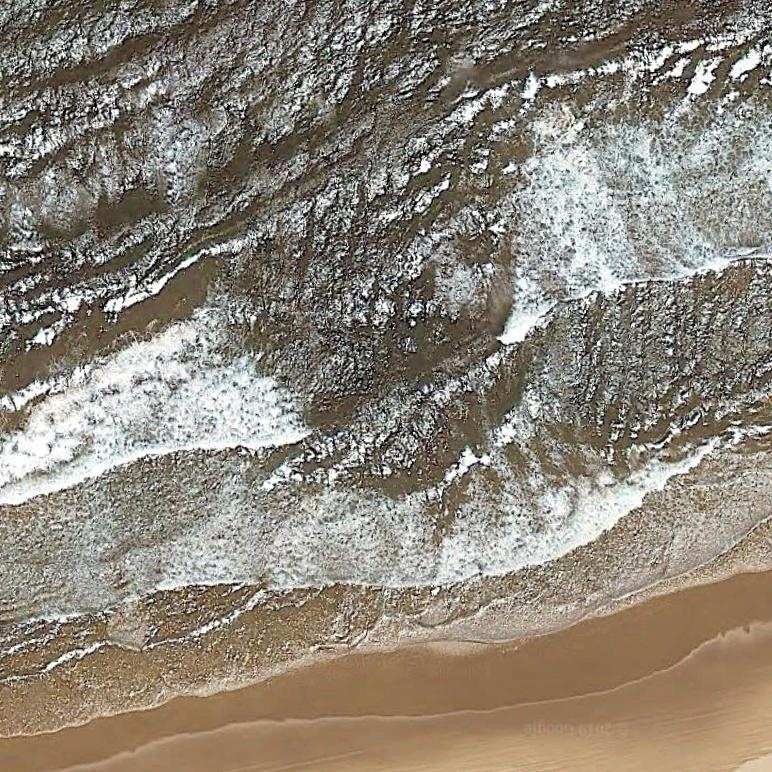rip_current: (217, 127, 542, 499)
